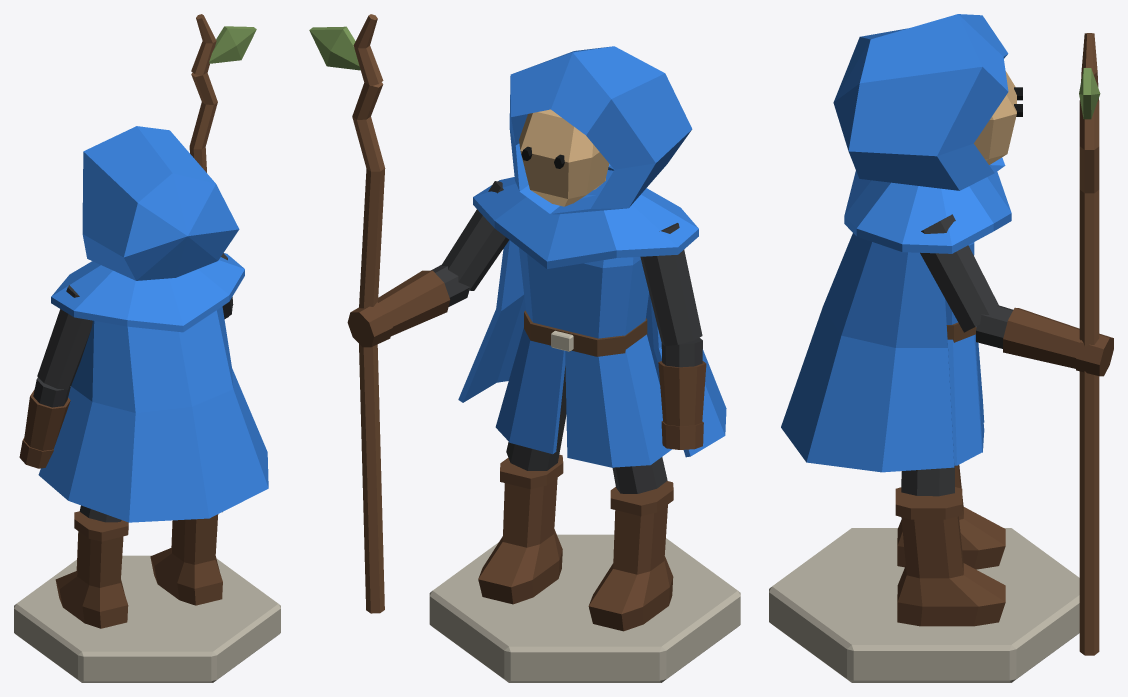
Rendered from human_druid_t1.glb.
The picture shows the model from 3 angles, left to right: view 1: azimuth 30°, elevation 25°; view 2: azimuth 150°, elevation 25°; view 3: azimuth 270°, elevation 25°; orthographic projection. The views are drawn at different scales.
Visible parts, largest first — view 1: Caster_Short_Back_Cape, Foundation_Hexagonal_Stone, Pointed_Open_Hood_Shell, Plain_Caster_Shoulder_Mantle, Boot_-1, Boot_1, left_upper_sleeve, left_bracer, Druid_One_Crooked_Oak_Staff_Shaft, Druid_One_Broad_Green_Staff_Leaf, Boot_Cuff_-1, Druid_One_Leaf_Fork (+2 smaller); view 2: Foundation_Hexagonal_Stone, Pointed_Open_Hood_Shell, Plain_Caster_Shoulder_Mantle, Druid_One_Crooked_Oak_Staff_Shaft, Continuous_Tunic_Bodice, Continuous_Split_Tunic_Skirt, Boot_1, Boot_-1, Caster_Short_Back_Cape, Angular_Face, Split_Tunic_Front_1, Split_Tunic_Front_-1 (+15 smaller); view 3: Caster_Short_Back_Cape, Foundation_Hexagonal_Stone, Pointed_Open_Hood_Shell, Druid_One_Crooked_Oak_Staff_Shaft, Plain_Caster_Shoulder_Mantle, Boot_1, right_upper_sleeve, Continuous_Split_Tunic_Skirt, right_bracer, Boot_-1, Angular_Face, Boot_Cuff_1 (+5 smaller).
Part boxes in pixels (box(x1,y1,x2,y2)): Caster_Short_Back_Cape: box(38, 306, 268, 522); Foundation_Hexagonal_Stone: box(14, 555, 280, 682); Pointed_Open_Hood_Shell: box(82, 126, 239, 280); Plain_Caster_Shoulder_Mantle: box(51, 253, 244, 332); Boot_-1: box(55, 531, 128, 628); Boot_1: box(150, 514, 222, 605); left_upper_sleeve: box(37, 285, 92, 389); left_bracer: box(24, 389, 70, 450); Druid_One_Crooked_Oak_Staff_Shaft: box(189, 72, 217, 172); Druid_One_Broad_Green_Staff_Leaf: box(209, 26, 256, 63); Boot_Cuff_-1: box(74, 511, 128, 541); Druid_One_Leaf_Fork: box(191, 14, 216, 75); Foundation_Hexagonal_Stone: box(429, 534, 740, 682); Pointed_Open_Hood_Shell: box(509, 46, 692, 214); Plain_Caster_Shoulder_Mantle: box(473, 167, 698, 268); Druid_One_Crooked_Oak_Staff_Shaft: box(352, 82, 385, 613); Continuous_Tunic_Bodice: box(519, 247, 648, 338); Continuous_Split_Tunic_Skirt: box(495, 328, 671, 467); Boot_1: box(478, 478, 562, 604); Boot_-1: box(588, 505, 673, 631); Caster_Short_Back_Cape: box(458, 240, 726, 457); Angular_Face: box(519, 109, 609, 206); Split_Tunic_Front_1: box(509, 340, 565, 454); Split_Tunic_Front_-1: box(565, 350, 612, 467); Caster_Short_Back_Cape: box(781, 233, 954, 472); Foundation_Hexagonal_Stone: box(769, 528, 1079, 682); Pointed_Open_Hood_Shell: box(833, 14, 1008, 190); Druid_One_Crooked_Oak_Staff_Shaft: box(1079, 100, 1099, 655); Plain_Caster_Shoulder_Mantle: box(844, 171, 1011, 253); Boot_1: box(897, 516, 1005, 626); right_upper_sleeve: box(920, 214, 998, 332); Continuous_Split_Tunic_Skirt: box(947, 335, 981, 465); right_bracer: box(1003, 307, 1080, 368); Boot_-1: box(897, 465, 1005, 569); Angular_Face: box(974, 71, 1016, 164); Boot_Cuff_1: box(895, 487, 962, 519).
Size of the model in its own units: 1.13 by 2.08 by 0.983.
